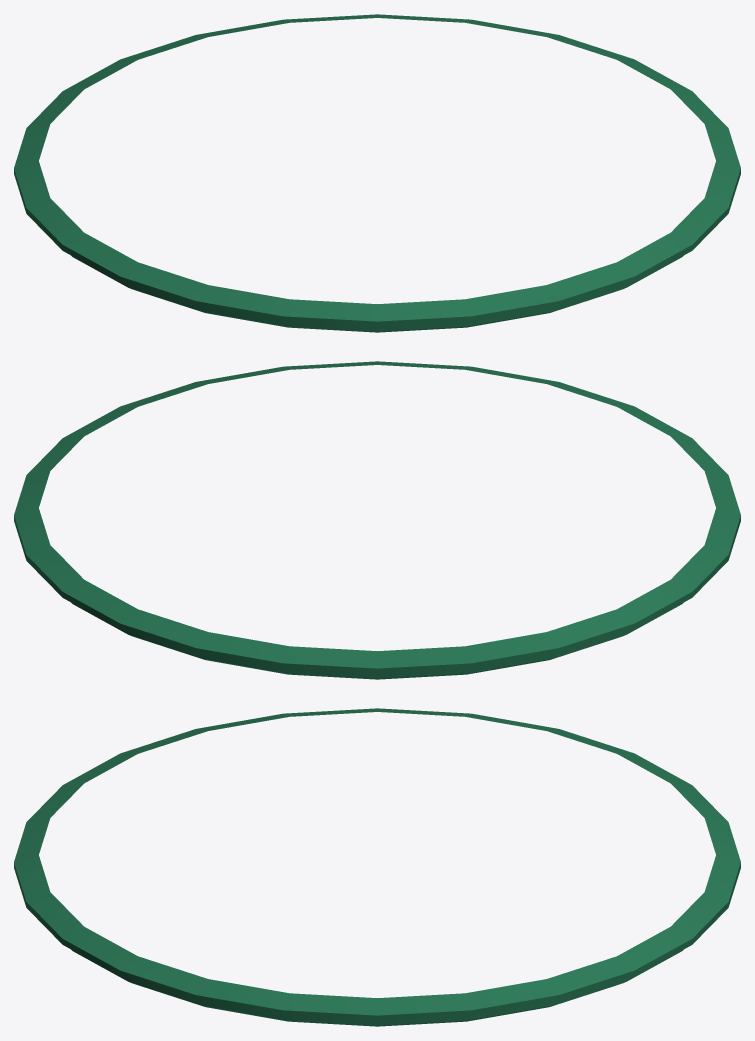
Rendered from dome.trim_top.green.glb.
3 renders of one model, top to bottom at view 1: azimuth 30°, elevation 25°; view 2: azimuth 150°, elevation 25°; view 3: azimuth 270°, elevation 25°, orthographic.
Visible parts, largest first — view 1: dome_trim_top_green; view 2: dome_trim_top_green; view 3: dome_trim_top_green.
Boxes of the visible parts, box(x1,y1,x2,y2) form: dome_trim_top_green: box(14, 14, 740, 332); dome_trim_top_green: box(14, 361, 740, 679); dome_trim_top_green: box(14, 708, 740, 1026).
Size of what is drawn, in the model's own units: 7.6 by 0.3 by 7.6.
